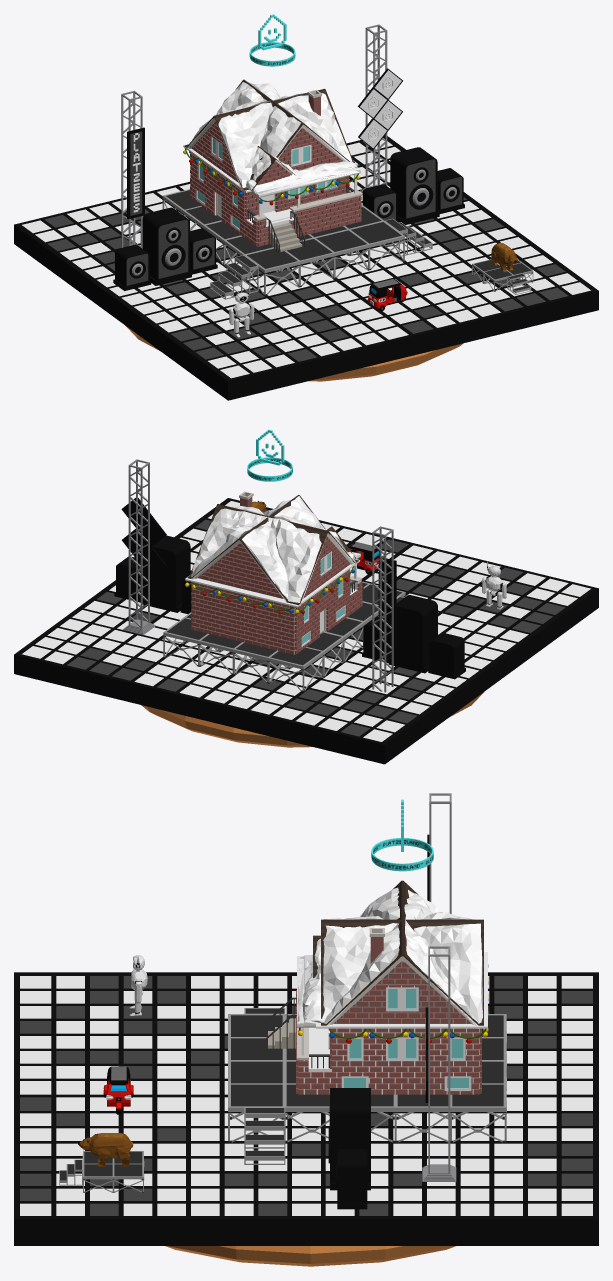
3 renders of one model, top to bottom at view 1: azimuth 30°, elevation 25°; view 2: azimuth 150°, elevation 25°; view 3: azimuth 270°, elevation 25°, orthographic. The views are drawn at different scales.
Visible parts, largest first — view 1: Cube.008, Cube.1419, UNDERGROUND_PIZZA, TYPE_PREMIUM, VEHICLES_TUC_TUC, OBJRANDOM_PLATZEEBOT, ANIMAL_OSO; view 2: Cube.008, Cube.1419, UNDERGROUND_PIZZA, TYPE_PREMIUM, OBJRANDOM_PLATZEEBOT, VEHICLES_TUC_TUC; view 3: Cube.008, Cube.1419, UNDERGROUND_PIZZA, ANIMAL_OSO, TYPE_PREMIUM, VEHICLES_TUC_TUC, OBJRANDOM_PLATZEEBOT.
Boxes of the visible parts, box(x1,y1,x2,y2) form: Cube.008: box(14, 24, 598, 400); Cube.1419: box(183, 79, 362, 252); UNDERGROUND_PIZZA: box(125, 325, 463, 381); TYPE_PREMIUM: box(249, 14, 295, 66); VEHICLES_TUC_TUC: box(367, 279, 407, 311); OBJRANDOM_PLATZEEBOT: box(229, 288, 254, 337); ANIMAL_OSO: box(491, 243, 517, 272); Cube.008: box(14, 459, 598, 764); Cube.1419: box(185, 491, 363, 654); UNDERGROUND_PIZZA: box(141, 692, 483, 747); TYPE_PREMIUM: box(247, 429, 292, 481); OBJRANDOM_PLATZEEBOT: box(481, 561, 506, 609); VEHICLES_TUC_TUC: box(348, 542, 379, 574); Cube.008: box(14, 793, 598, 1245); Cube.1419: box(265, 880, 488, 1094); UNDERGROUND_PIZZA: box(165, 1246, 455, 1266); ANIMAL_OSO: box(78, 1133, 133, 1166); TYPE_PREMIUM: box(371, 799, 433, 871); VEHICLES_TUC_TUC: box(103, 1066, 133, 1114); OBJRANDOM_PLATZEEBOT: box(129, 955, 147, 1015).
Bounding box in the file's own units: 4000 × 2723 × 4000.
51 materials, 2 textured.
